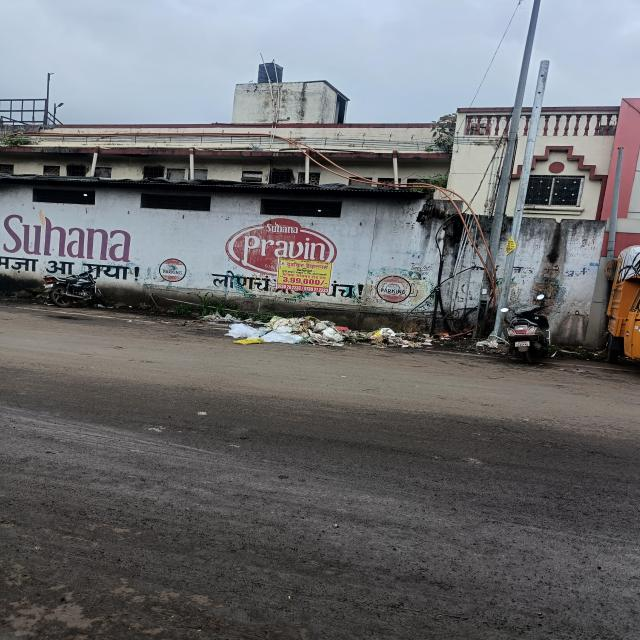garbage: (229, 316, 430, 354)
